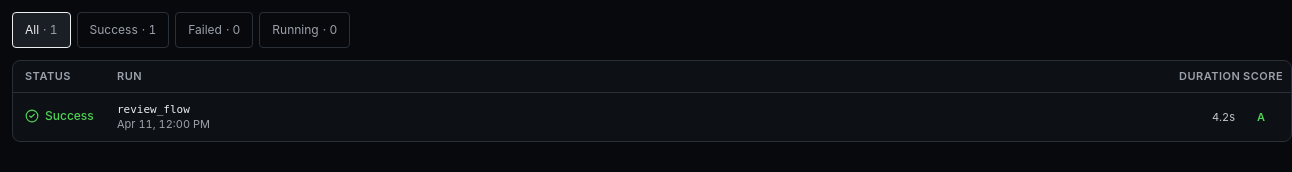
Scenario: RunList › shows the empty state after filtering away all runs
This screenshot has width=1292, height=172.
Click the button "Failed· 0". click: [214, 30]
box: [175, 12, 253, 48]
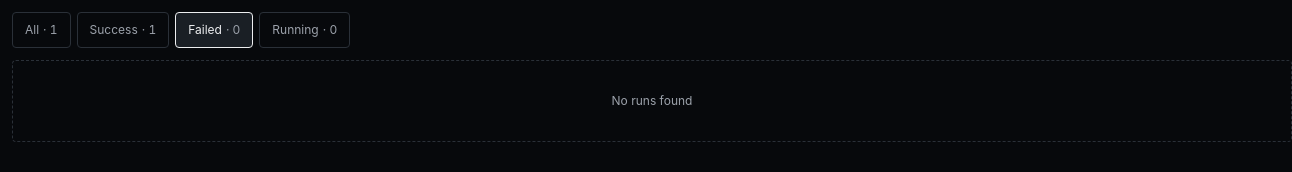
Result: the text "No runs found" is shown at [12, 60, 1291, 142]
